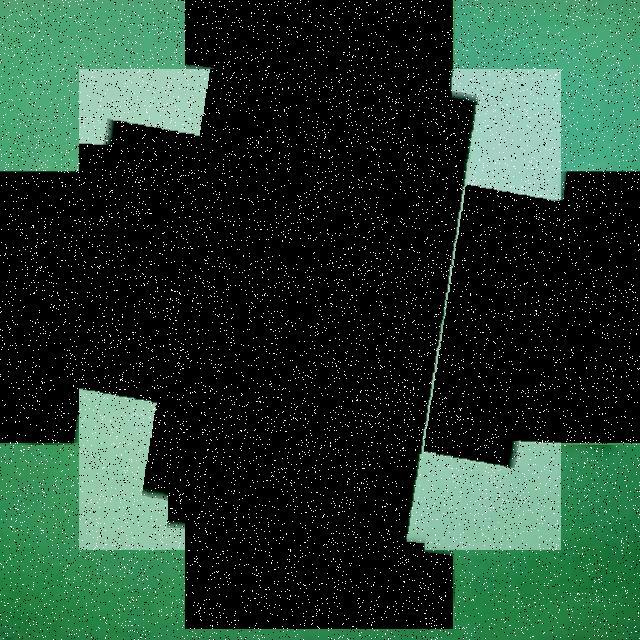lima puluh ribu rupiah: (79, 69, 561, 550)
